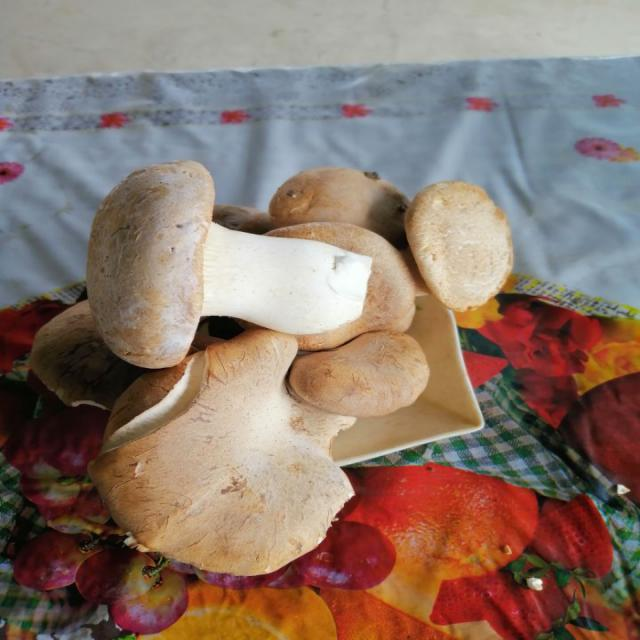Pleurotus cystidiosus: (96, 333, 355, 571), (88, 160, 372, 367), (415, 175, 519, 310), (294, 334, 430, 411)
